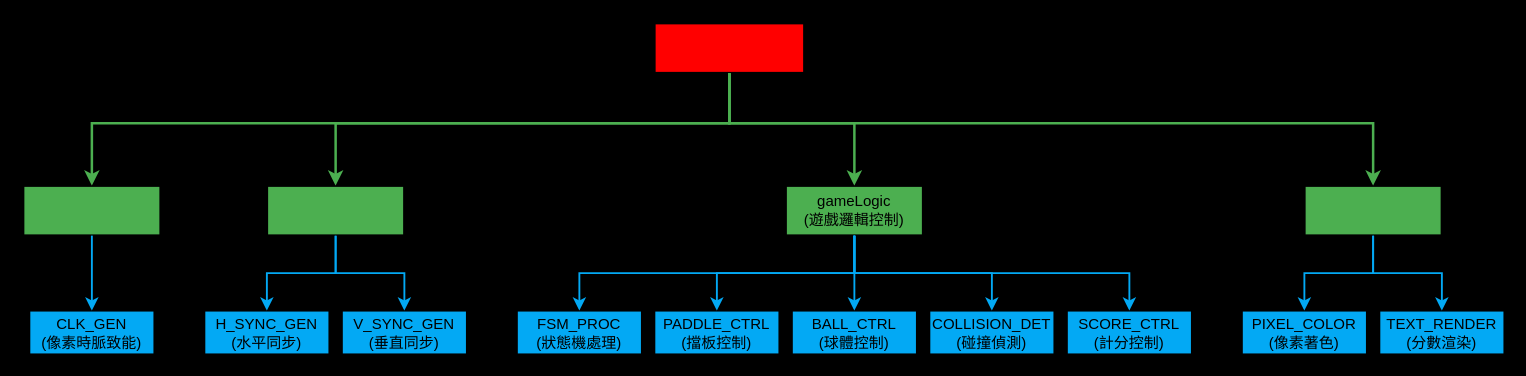
The diagram is 1526 pixels wide and 376 high, and some of its shapes have lost their labels. The shapes that lost their labels are listed below. From the top down, each one's centre as x and y in pixels, then its label:
At point (728, 47): "pongGameTop (頂層模組)".
At point (91, 210): "clkDivider (時脈除頻)".
At point (335, 210): "vgaController (VGA控制器)".
At point (1372, 210): "videoGenerator (畫面渲染)".
